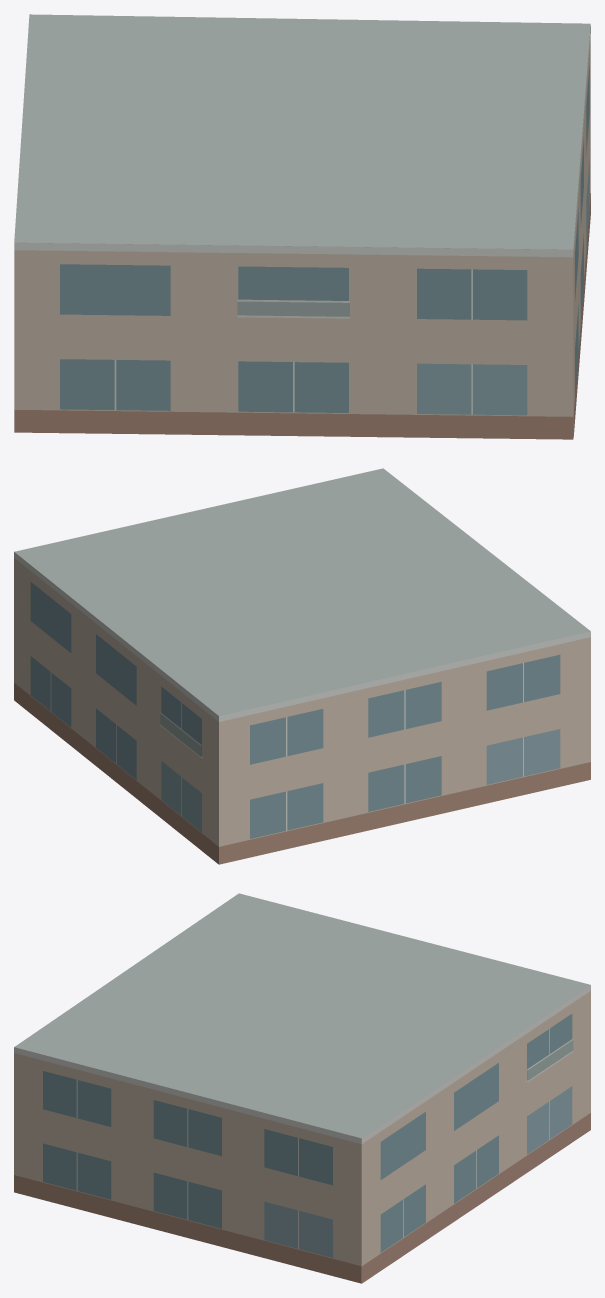
File: survey-upis-32693439.glb
3 views of the same model, one above another, from view 1: azimuth 30°, elevation 25°; view 2: azimuth 150°, elevation 25°; view 3: azimuth 270°, elevation 25° (orthographic). The views are drawn at different scales.
Visible parts, largest first — view 1: survey-upis-32693439.tmp; view 2: survey-upis-32693439.tmp; view 3: survey-upis-32693439.tmp.
Part boxes in pixels (x1,y1,x2,y2): survey-upis-32693439.tmp: [14, 14, 590, 439]; survey-upis-32693439.tmp: [14, 468, 590, 864]; survey-upis-32693439.tmp: [14, 893, 590, 1283].
Size of the model in its own units: 22.1 by 6.1 by 21.97.
